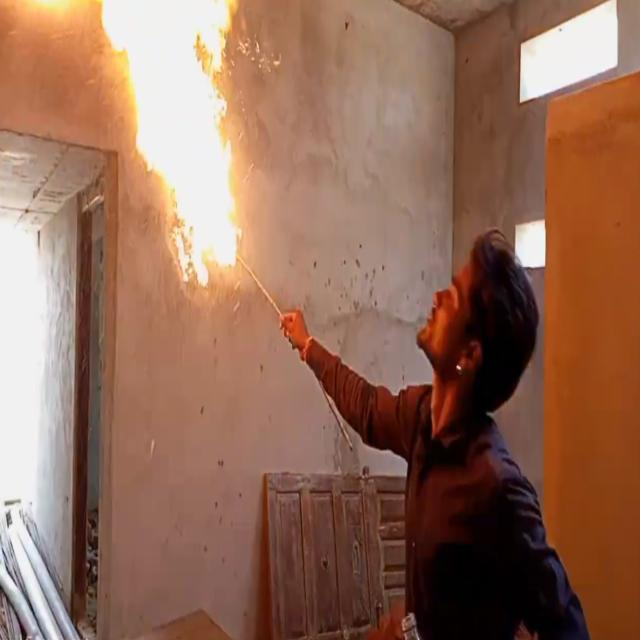fire: (103, 0, 242, 287)
